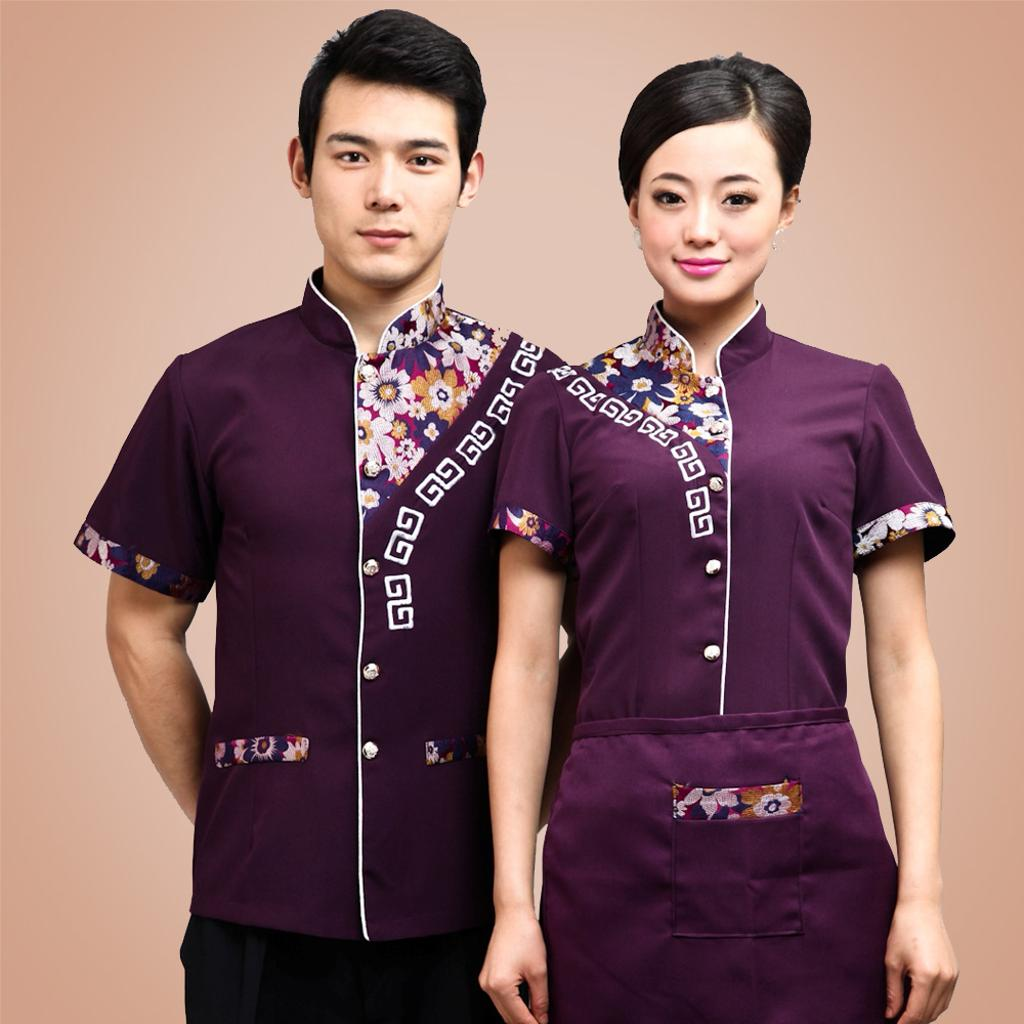face: (310, 78, 464, 274), (640, 126, 782, 304)
